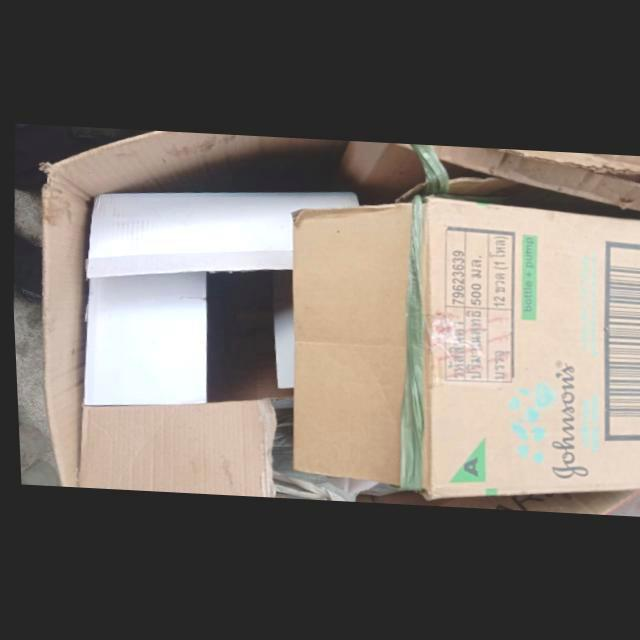cardboard: (39, 130, 345, 497), (287, 196, 640, 501), (79, 191, 358, 407), (342, 140, 640, 214)
